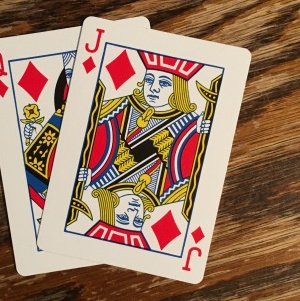card: (46, 15, 253, 286)
